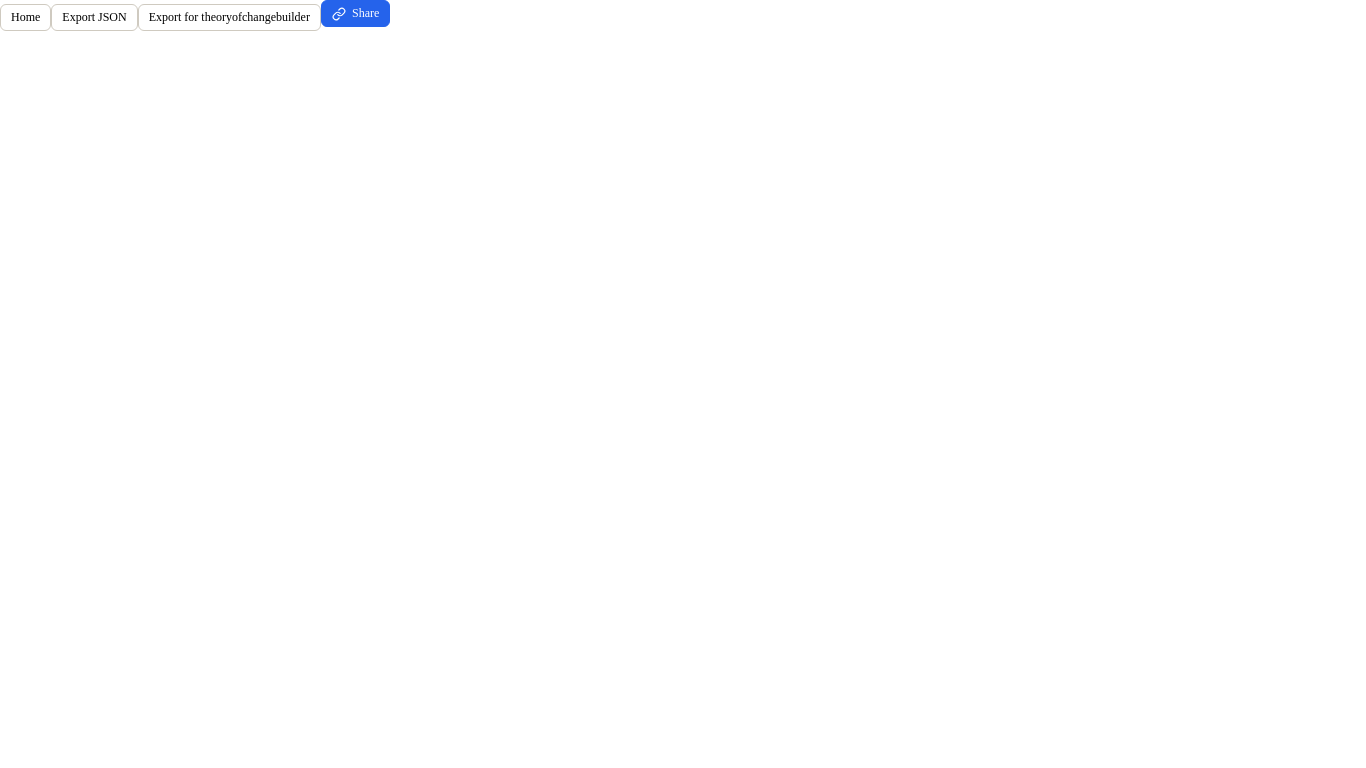
Test: Share button and dialog › offers Try again when the links cannot be created
This screenshot has width=1366, height=768.
Click the button "Share" at [356, 14], box [321,0,390,27]
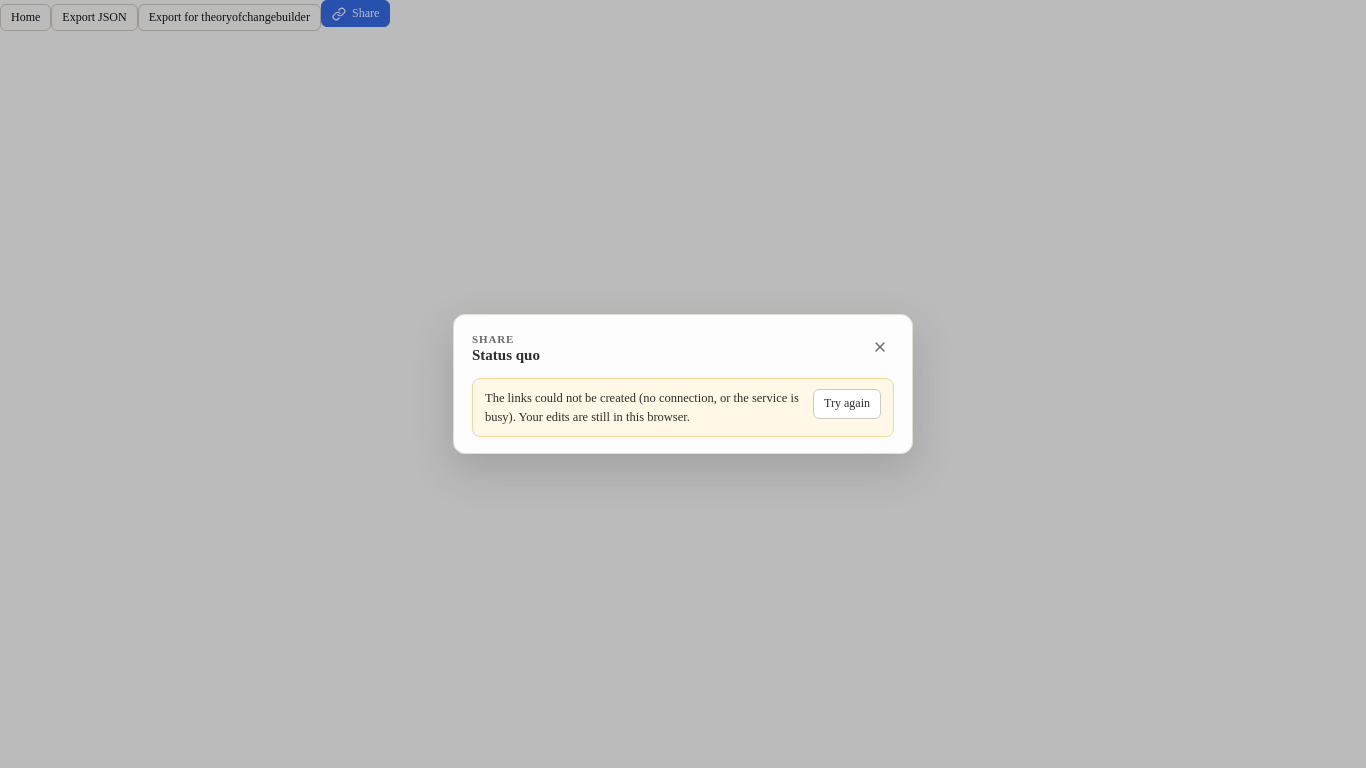
Click the button "Try again" at [847, 404], box [813,389,881,419]
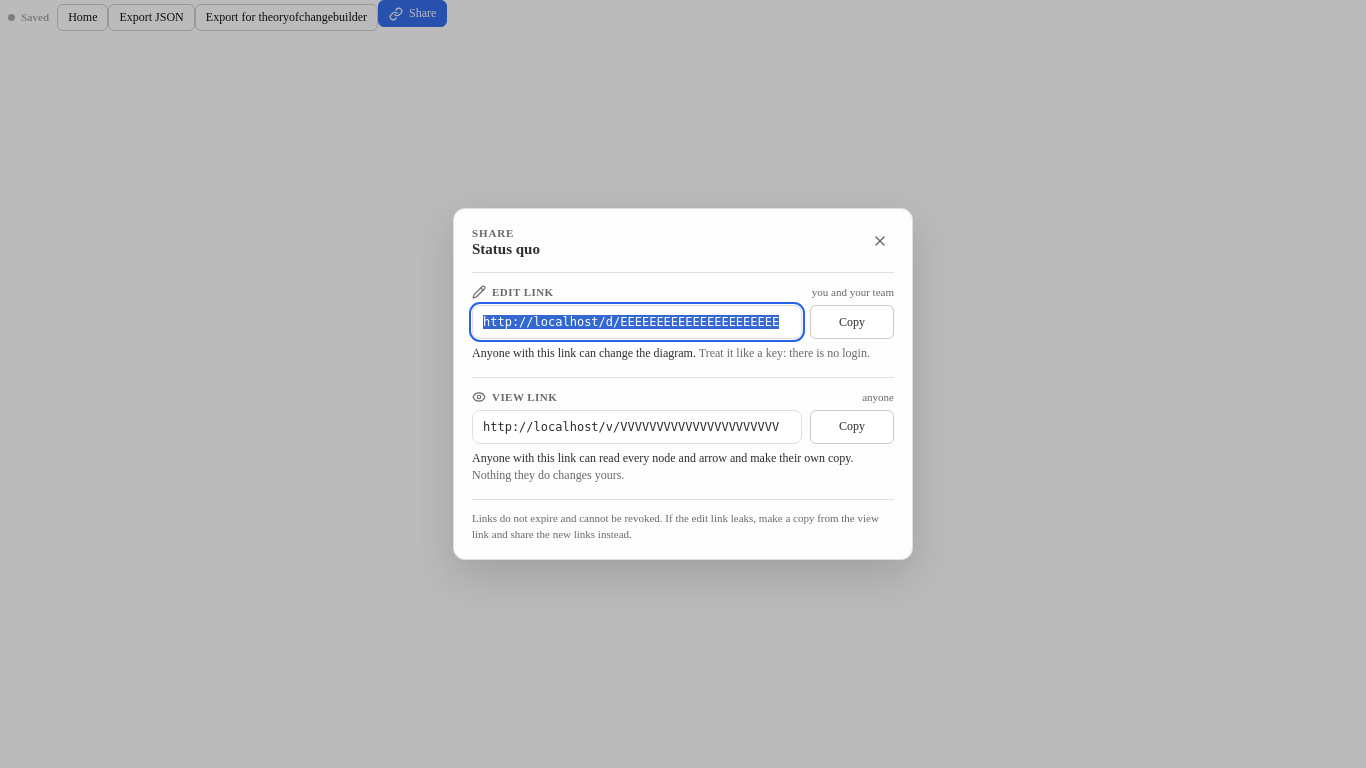
Expected: the field named "Edit link" is shown, [472,305,802,339]
